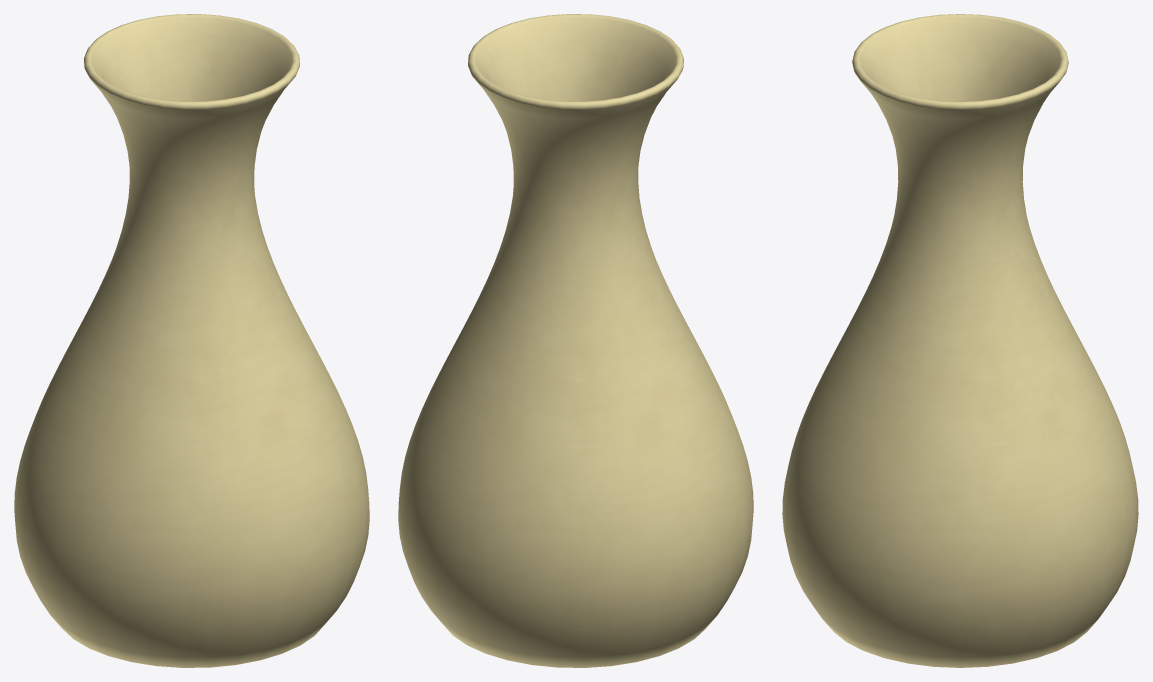
Rendered from VaseSimpler.fbx.
The picture shows the model from 3 angles, left to right: view 1: azimuth 30°, elevation 25°; view 2: azimuth 150°, elevation 25°; view 3: azimuth 270°, elevation 25°; orthographic projection.
Visible parts, largest first — view 1: Vase1; view 2: Vase1; view 3: Vase1.
Boxes of the visible parts, box(x1,y1,x2,y2) form: Vase1: box(14, 14, 369, 667); Vase1: box(398, 14, 753, 667); Vase1: box(782, 14, 1138, 667).
Size of the model in its own units: 29.24 by 50 by 29.24.
